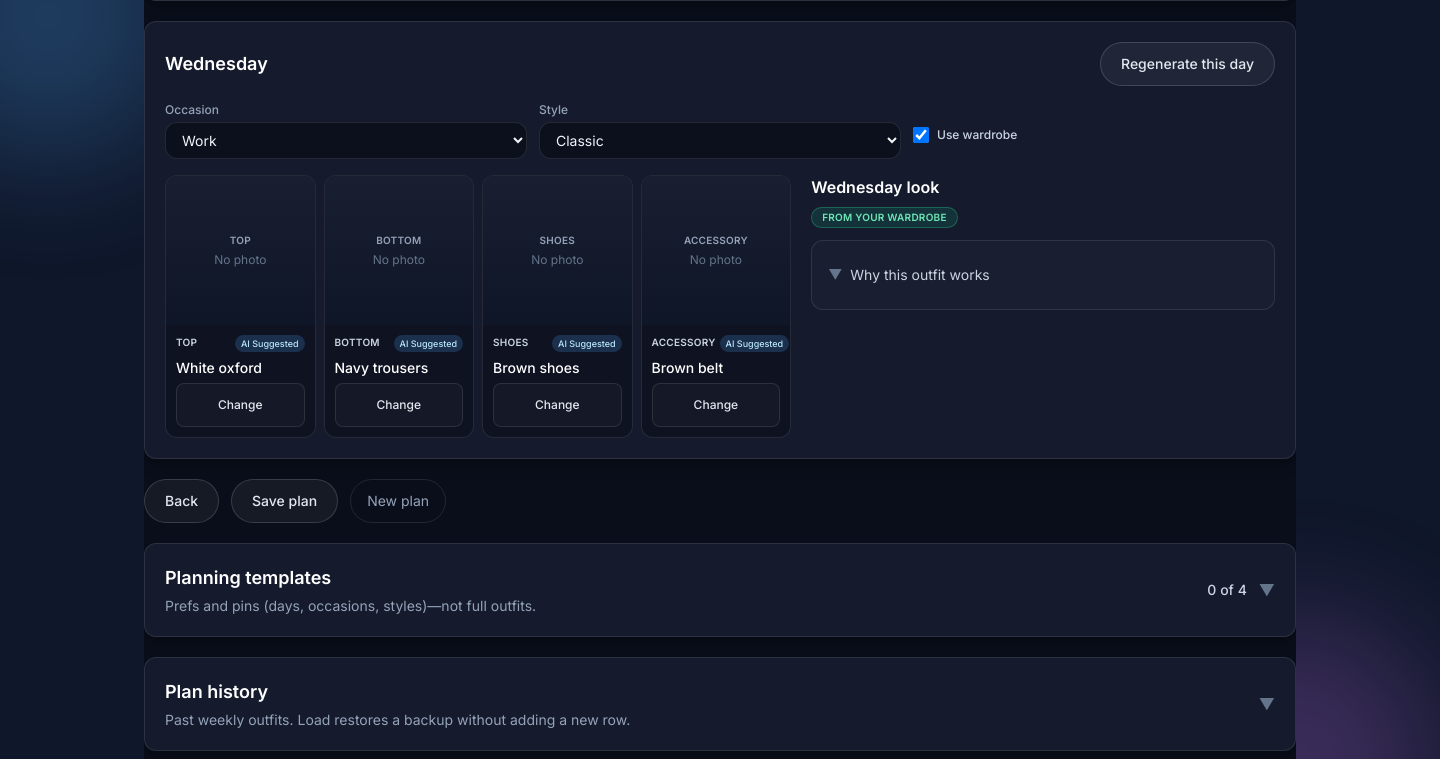
Test: Week Outfit Planner › T1: Change → pick wardrobe item updates that day slot and returns to Week on that day
(page scrolled)
Expected: the text "White oxford" is shown, [176, 359, 262, 376]
Click the button with test id "week-outfit-change-shirt" at coordinates (240, 405), box [176, 383, 304, 427]
(page scrolled)
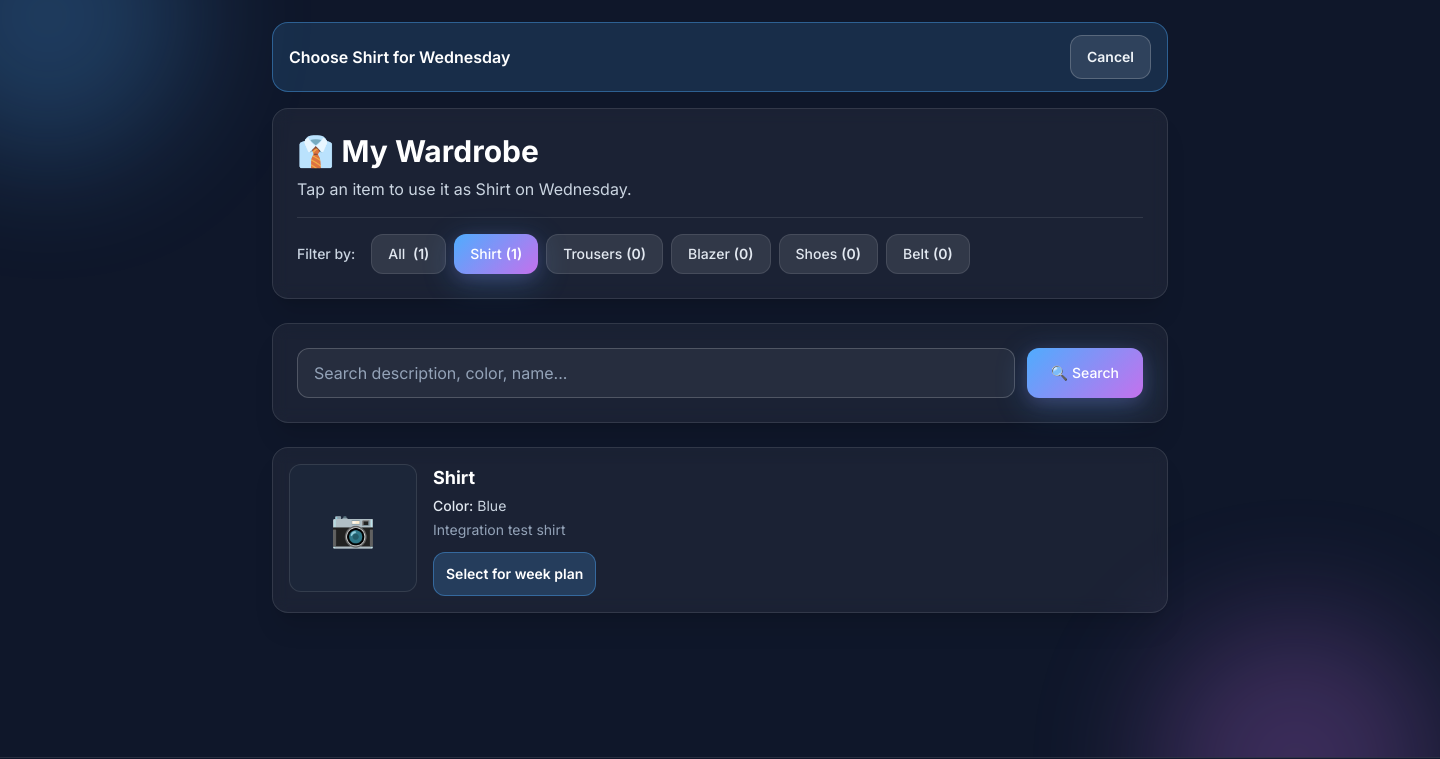
Now the message with test id "wardrobe-week-pick-banner" shows "Choose Shirt for Wednesday", box [272, 22, 1168, 92]
Now the button with test id "wardrobe-week-pick-select-42" is shown
Click the button with test id "wardrobe-week-pick-select-42" at coordinates (515, 574), box [433, 552, 596, 596]
(page scrolled)
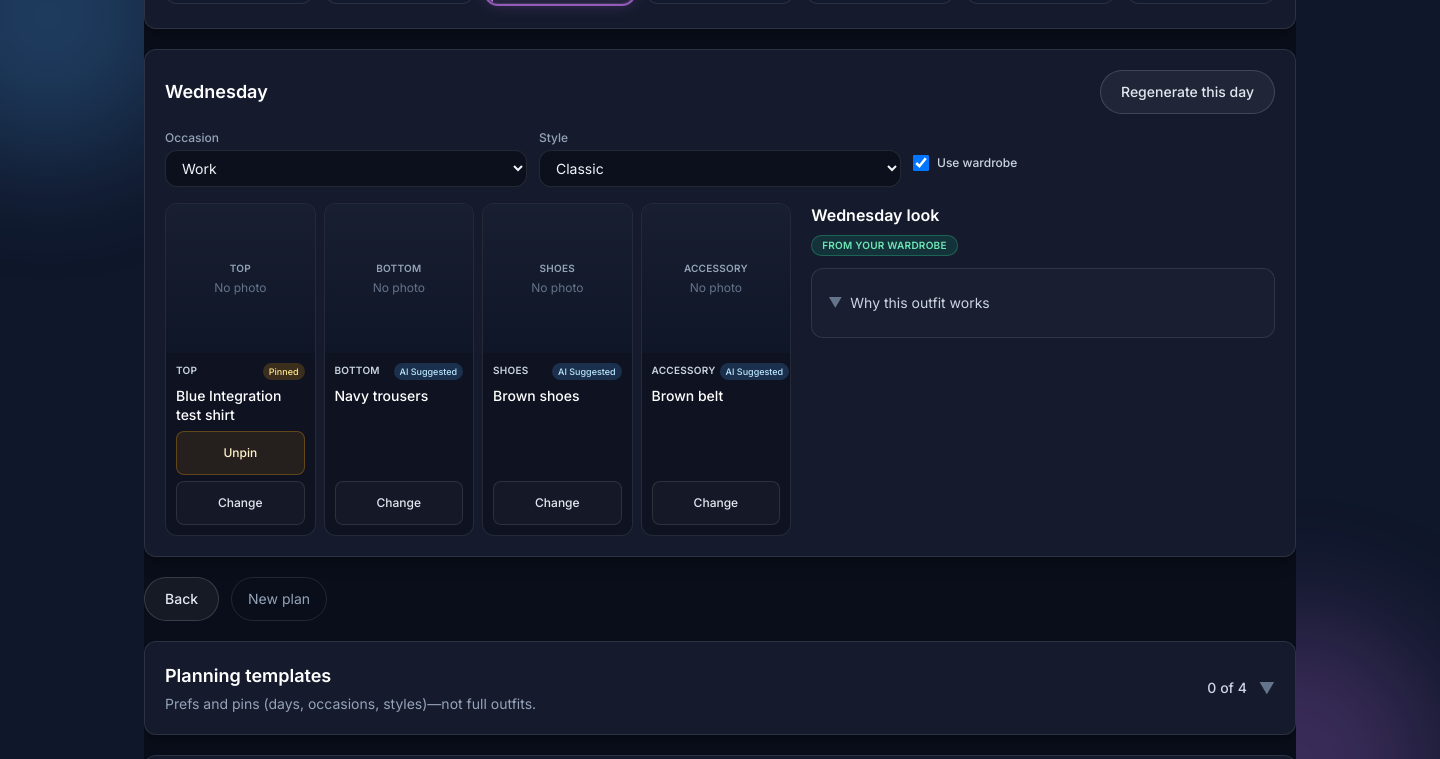
Now the text "Blue Integration test shirt" is shown, box [176, 387, 281, 423]
Now the message with test id "wardrobe-week-pick-banner" is gone
